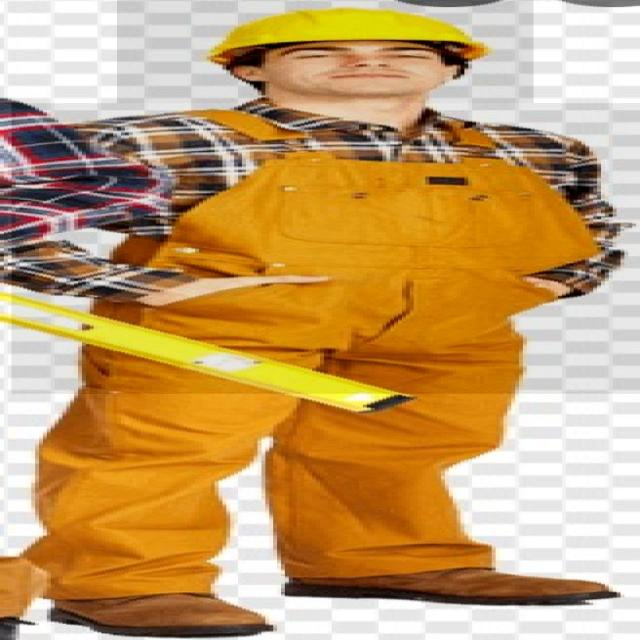Helmet: (11, 103, 640, 393), (117, 0, 533, 126)
